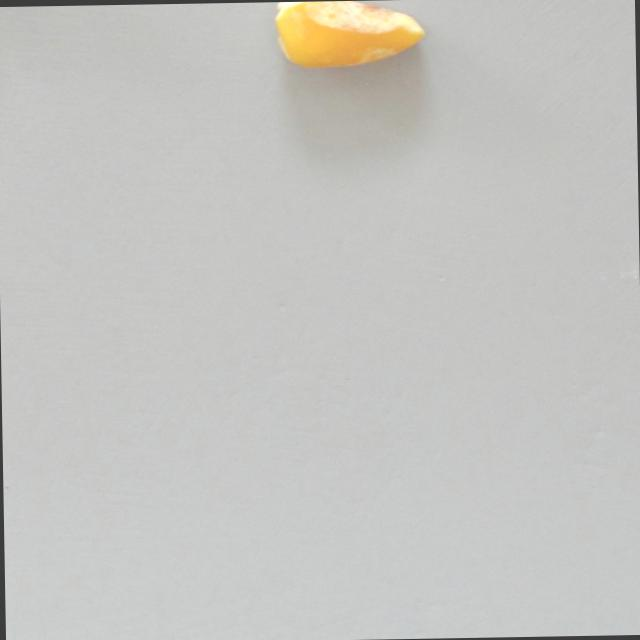pelicula: (270, 0, 430, 75)
